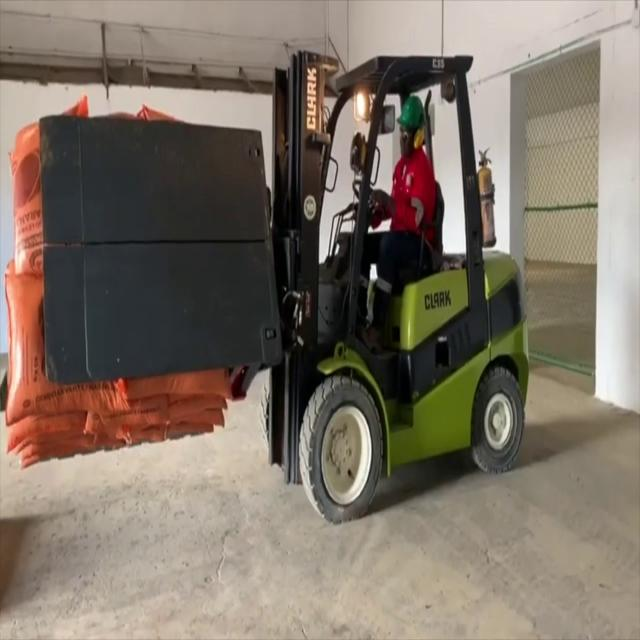Chariot elevateur: (266, 35, 538, 538)
